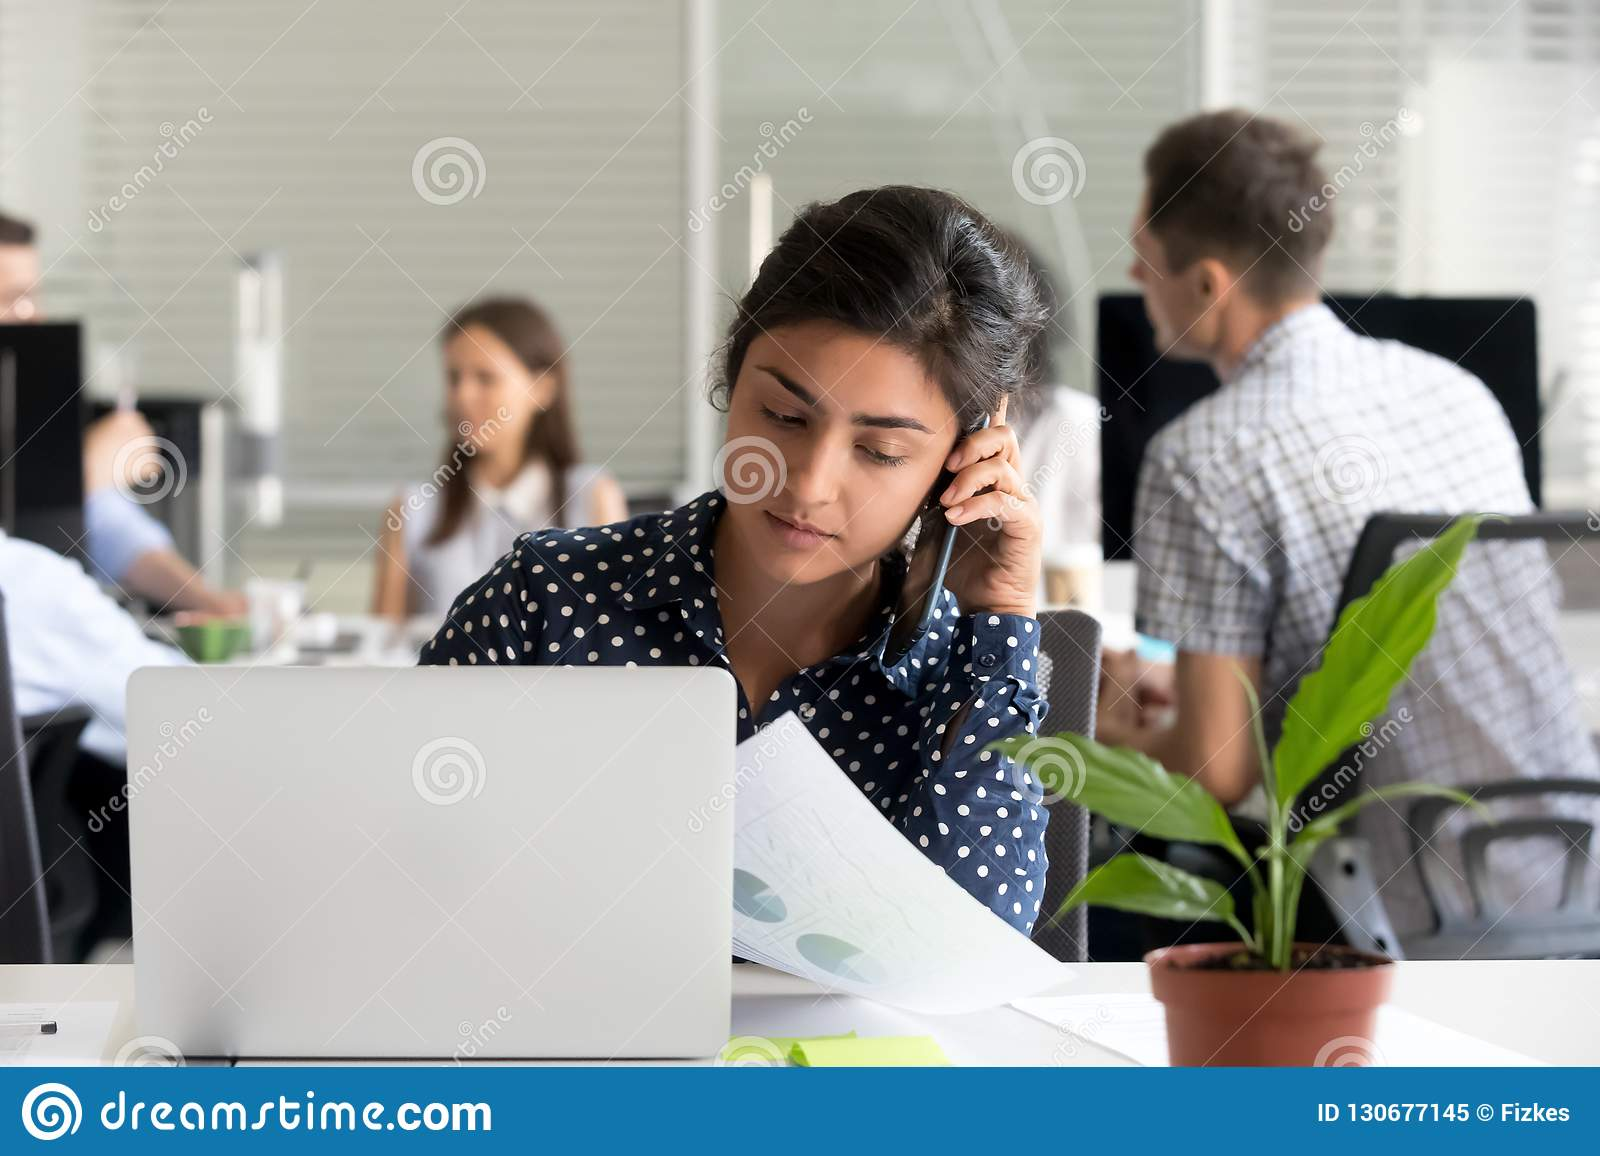phone: (884, 377, 993, 675)
talk: (725, 354, 1042, 675)
